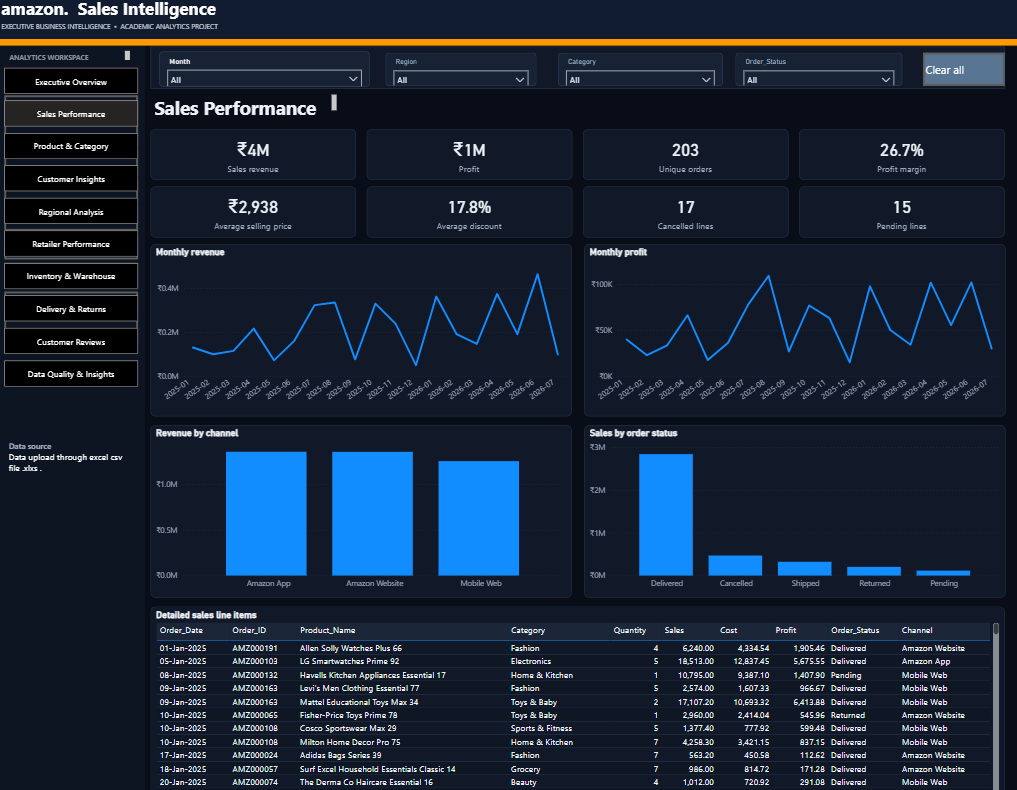

What the dashboard file says about the page in this screenshot:
{"tool":"powerbi","page":{"name":"Sales Performance","canvas":[1600,1300],"ordinal":1},"visuals":[{"type":"textbox","box":[0,70,230,1230],"z":0},{"type":"textbox","box":[0,0,1600,70],"z":1000},{"type":"textbox","box":[0,70,1600,4],"z":2000},{"type":"textbox","box":[12,84,200,24],"z":3000},{"type":"actionButton","box":[10,114,210,38],"z":4000},{"type":"actionButton","box":[10,158,210,38],"z":5000},{"type":"actionButton","box":[10,202,210,38],"z":6000},{"type":"actionButton","box":[10,246,210,38],"z":7000},{"type":"actionButton","box":[10,290,210,38],"z":8000},{"type":"actionButton","box":[10,334,210,38],"z":9000},{"type":"actionButton","box":[10,378,210,38],"z":10000},{"type":"actionButton","box":[10,422,210,38],"z":11000},{"type":"actionButton","box":[10,466,210,38],"z":12000},{"type":"actionButton","box":[10,510,210,38],"z":13000},{"type":"textbox","box":[11.9,676.5,205.6,105.8],"z":14000},{"type":"textbox","box":[240,82,1340,66],"z":15000},{"type":"slicer","fields":{"Values":["SalesLines.Order_Date.Variation.Date Hierarchy.Month","SalesLines.Order_Date.Variation.Date Hierarchy.Day"]},"box":[252,90,330,55],"z":16000},{"type":"slicer","fields":{"Values":["SalesLines.Region"]},"box":[608.3,91.7,236.7,51.7],"z":17000},{"type":"slicer","fields":{"Values":["SalesLines.Category"]},"box":[878.3,91.7,258.3,51.7],"z":18000},{"type":"slicer","fields":{"Values":["SalesLines.Order_Status"]},"box":[1156.7,91.7,261.7,51.7],"z":19000},{"type":"actionButton","box":[1450,91.7,128.3,51.7],"z":20000},{"type":"textbox","box":[240,153.3,296.7,53.3],"z":21000},{"type":"card","fields":{"Values":["_Measures.Sales Revenue"]},"box":[240,212,322,80],"z":22000},{"type":"card","fields":{"Values":["_Measures.Profit"]},"box":[579,212,322,80],"z":23000},{"type":"card","fields":{"Values":["_Measures.Unique Orders"]},"box":[918,212,322,80],"z":24000},{"type":"card","fields":{"Values":["_Measures.Profit Margin"]},"box":[1257,212,322,80],"z":25000},{"type":"card","fields":{"Values":["_Measures.Avg Selling Price"]},"box":[240,302,322,80],"z":26000},{"type":"card","fields":{"Values":["_Measures.Avg Discount"]},"box":[579,302,322,80],"z":27000},{"type":"card","fields":{"Values":["_Measures.Cancelled Lines"]},"box":[918,302,322,80],"z":28000},{"type":"card","fields":{"Values":["_Measures.Pending Lines"]},"box":[1257,302,322,80],"z":29000},{"type":"lineChart","title":"Monthly revenue","fields":{"Category":["SalesLines.Month"],"Y":["_Measures.Sales Revenue"]},"box":[240,392,661,270],"z":30000},{"type":"lineChart","title":"Monthly profit","fields":{"Category":["SalesLines.Month"],"Y":["_Measures.Profit"]},"box":[919,392,661,270],"z":31000},{"type":"clusteredColumnChart","title":"Revenue by channel","fields":{"Category":["SalesLines.Channel"],"Y":["_Measures.Sales Revenue"]},"box":[240,676,661,270],"z":32000},{"type":"clusteredColumnChart","title":"Sales by order status","fields":{"Category":["SalesLines.Order_Status"],"Y":["_Measures.Sales Revenue"]},"box":[919,676,661,270],"z":33000},{"type":"tableEx","title":"Detailed sales line items","fields":{"Values":["SalesLines.Order_Date","SalesLines.Order_ID","SalesLines.Product_Name","SalesLines.Category","SalesLines.Quantity","SalesLines.Sales","SalesLines.Cost","SalesLines.Profit","SalesLines.Order_Status","SalesLines.Channel"]},"box":[240,960,1340,330],"z":34000},{"type":"pageNavigator","box":[10,116,210,506],"z":35000}]}

Visuals, with their boxes on the page's 1600x1300 design canvas (x1, y1, x2, y2). These are canvas units, not pixel positions in the 1017x790 screenshot, which may show the page scaled, cropped or inside an application window:
textbox: (0, 70, 230, 1300)
textbox: (0, 0, 1600, 70)
textbox: (0, 70, 1600, 74)
textbox: (12, 84, 212, 108)
actionButton: (10, 114, 220, 152)
actionButton: (10, 158, 220, 196)
actionButton: (10, 202, 220, 240)
actionButton: (10, 246, 220, 284)
actionButton: (10, 290, 220, 328)
actionButton: (10, 334, 220, 372)
actionButton: (10, 378, 220, 416)
actionButton: (10, 422, 220, 460)
actionButton: (10, 466, 220, 504)
actionButton: (10, 510, 220, 548)
textbox: (12, 676, 218, 782)
textbox: (240, 82, 1580, 148)
slicer - SalesLines.Order_Date.Variation.Date Hierarchy.Month x SalesLines.Order_Date.Variation.Date Hierarchy.Day: (252, 90, 582, 145)
slicer - SalesLines.Region: (608, 92, 845, 143)
slicer - SalesLines.Category: (878, 92, 1137, 143)
slicer - SalesLines.Order_Status: (1157, 92, 1418, 143)
actionButton: (1450, 92, 1578, 143)
textbox: (240, 153, 537, 207)
card - _Measures.Sales Revenue: (240, 212, 562, 292)
card - _Measures.Profit: (579, 212, 901, 292)
card - _Measures.Unique Orders: (918, 212, 1240, 292)
card - _Measures.Profit Margin: (1257, 212, 1579, 292)
card - _Measures.Avg Selling Price: (240, 302, 562, 382)
card - _Measures.Avg Discount: (579, 302, 901, 382)
card - _Measures.Cancelled Lines: (918, 302, 1240, 382)
card - _Measures.Pending Lines: (1257, 302, 1579, 382)
"Monthly revenue" lineChart: (240, 392, 901, 662)
"Monthly profit" lineChart: (919, 392, 1580, 662)
"Revenue by channel" clusteredColumnChart: (240, 676, 901, 946)
"Sales by order status" clusteredColumnChart: (919, 676, 1580, 946)
"Detailed sales line items" tableEx: (240, 960, 1580, 1290)
pageNavigator: (10, 116, 220, 622)
